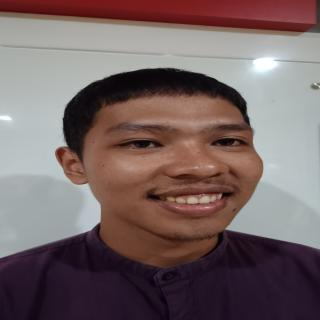Senang: (94, 87, 273, 241)
